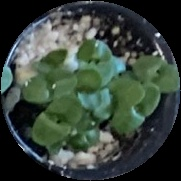Basil: (115, 76, 163, 135), (30, 101, 80, 144), (131, 54, 181, 91), (23, 69, 78, 102), (77, 43, 109, 89)
